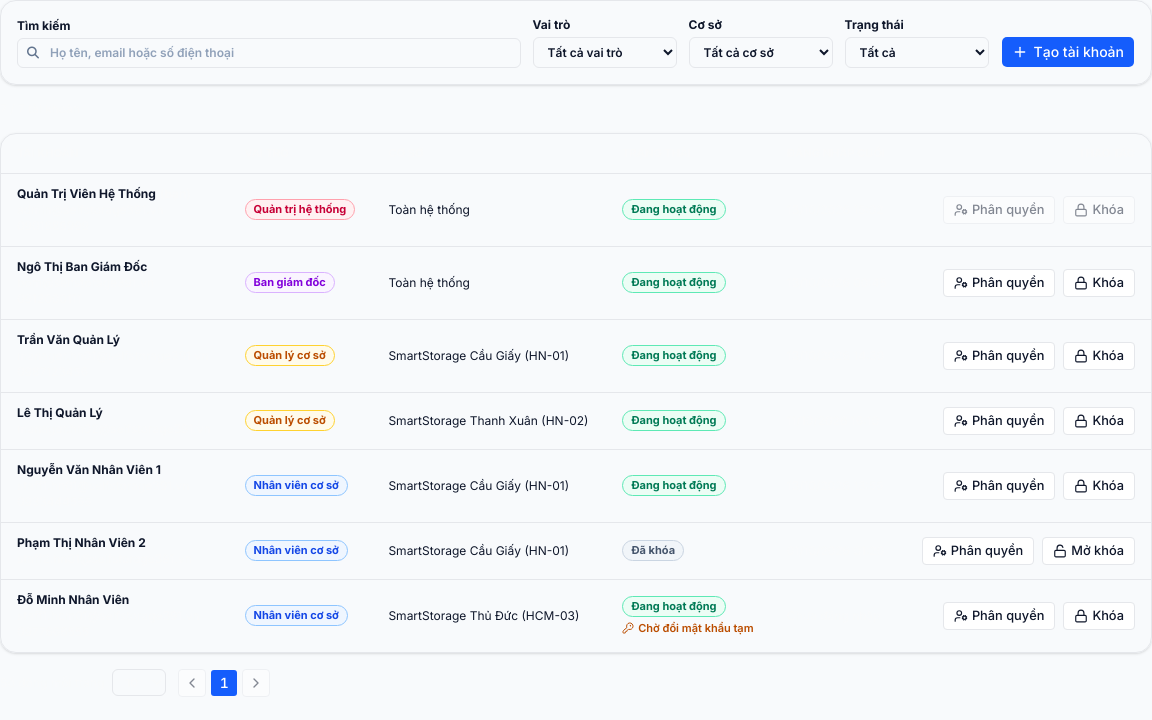
Scenario: AccountsPanel: Admin quản lý tài khoản nội bộ (US-29) › khóa một tài khoản → có bước xác nhận, xong thì trạng thái 'Đã khóa'
Expected: the text "staff1.hn01@selfstorage391.vn" is shown, x1=17 y1=478 x2=212 y2=494
Click the button "Khóa" in the row of "Nguyễn Văn Nhân Viên 1" at (1099, 486), box x1=1063 y1=472 x2=1135 y2=500
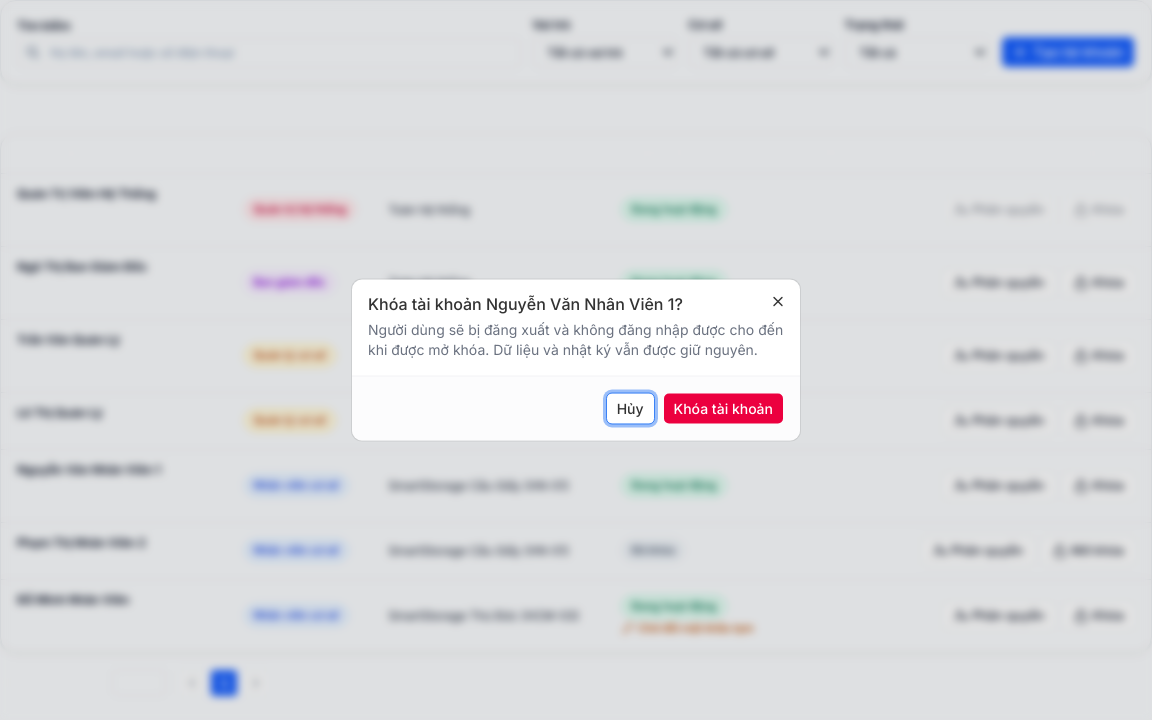
Click the button "Khóa tài khoản" at (723, 408), box x1=662 y1=392 x2=784 y2=424
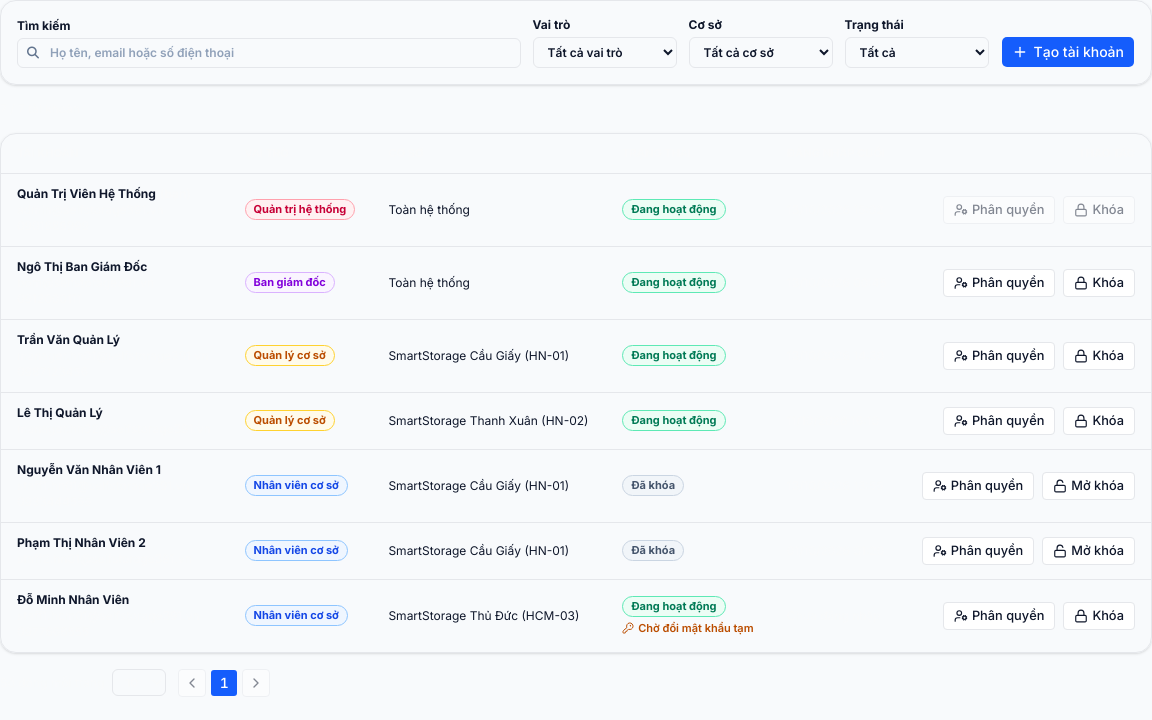
Expected: the text "Đã khóa" in the row of "staff1.hn01@selfstorage391.vn" is shown, x1=631 y1=478 x2=675 y2=492
